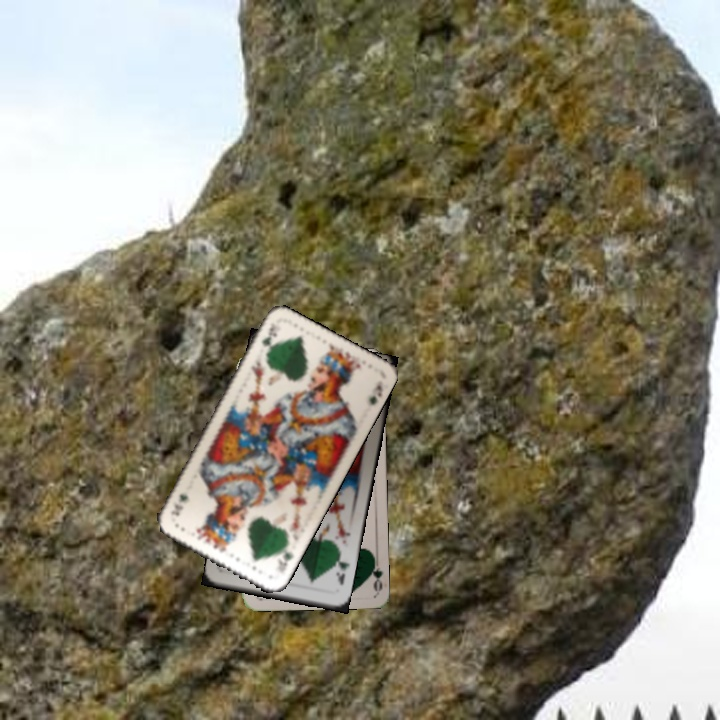GK: (258, 319, 282, 358), (273, 539, 296, 574), (331, 553, 352, 587)
GO: (365, 552, 385, 592)
